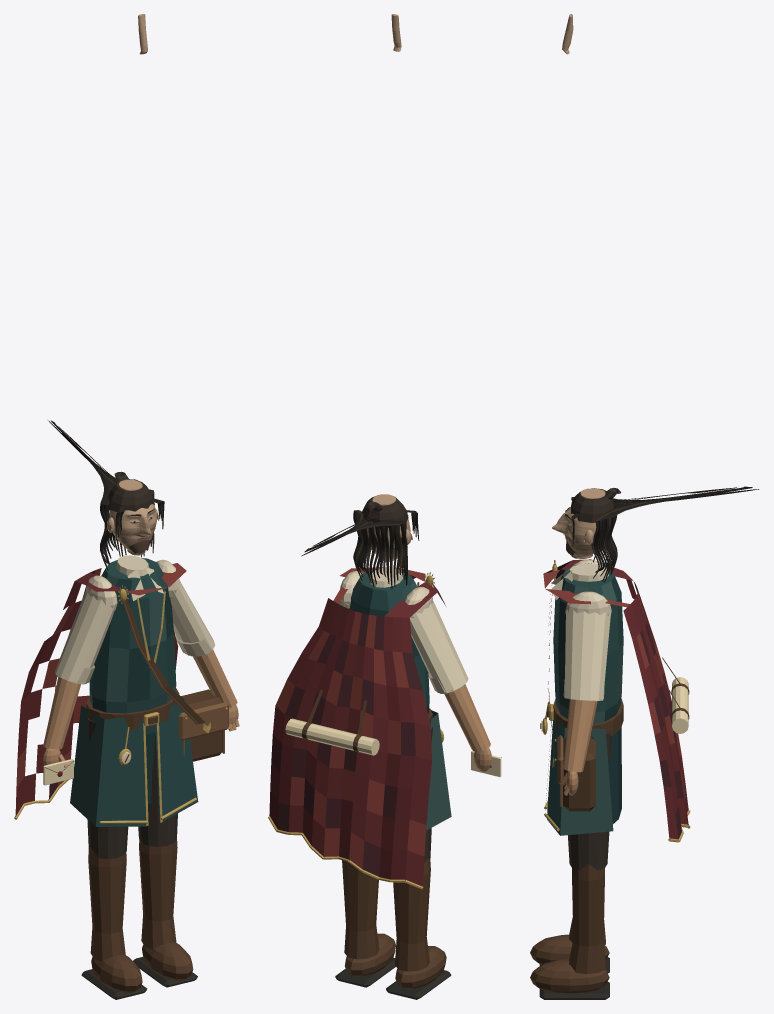
The model's file is courier.glb.
3 renders of one model, left to right at view 1: azimuth 30°, elevation 25°; view 2: azimuth 150°, elevation 25°; view 3: azimuth 270°, elevation 25°, orthographic.
Parts seen in each view (by area): view 1: Waistcoat, Split_coat_R, Cloak_folds, Boot_shaft_R, Boot_shaft_L, Split_coat_L, Linen_sleeve_R, Forearm_R, Face, Trouser_thigh_L, Linen_sleeve_L, Boot_toe_R (+13 smaller); view 2: Cloak_folds, Boot_shaft_R, Boot_shaft_L, Linen_sleeve_R, Waistcoat, Split_coat_R, Map_roll, Forearm_R, Boot_toe_L, Boot_toe_R, Hair_target_top, Boot_sole_R (+1 smaller); view 3: Cloak_folds, Waistcoat, Linen_sleeve_L, Boot_shaft_L, Split_coat_L, Boot_toe_L, Forearm_L, Trouser_thigh_L, Messenger_satchel, Face, Back_coat, Boot_toe_R (+6 smaller).
Boxes of the visible parts, x1=… form: Waistcoat: x1=89, y1=558, x2=176, y2=734; Split_coat_R: x1=70, y1=705, x2=146, y2=826; Cloak_folds: x1=15, y1=563, x2=186, y2=816; Boot_shaft_R: x1=88, y1=847, x2=126, y2=961; Boot_shaft_L: x1=139, y1=837, x2=177, y2=948; Split_coat_L: x1=155, y1=695, x2=198, y2=822; Linen_sleeve_R: x1=54, y1=590, x2=115, y2=684; Forearm_R: x1=43, y1=676, x2=80, y2=749; Face: x1=109, y1=479, x2=156, y2=555; Trouser_thigh_L: x1=138, y1=734, x2=177, y2=846; Linen_sleeve_L: x1=170, y1=580, x2=214, y2=656; Boot_toe_R: x1=91, y1=954, x2=142, y2=992; Cloak_folds: x1=269, y1=566, x2=445, y2=886; Boot_shaft_R: x1=393, y1=857, x2=430, y2=971; Boot_shaft_L: x1=342, y1=860, x2=379, y2=959; Linen_sleeve_R: x1=410, y1=599, x2=468, y2=693; Waistcoat: x1=349, y1=569, x2=429, y2=713; Split_coat_R: x1=426, y1=710, x2=451, y2=830; Map_roll: x1=285, y1=718, x2=379, y2=755; Forearm_R: x1=444, y1=684, x2=490, y2=751; Boot_toe_L: x1=345, y1=933, x2=395, y2=976; Boot_toe_R: x1=395, y1=946, x2=446, y2=988; Hair_target_top: x1=362, y1=495, x2=408, y2=527; Boot_sole_R: x1=386, y1=970, x2=451, y2=999; Cloak_folds: x1=543, y1=559, x2=688, y2=839; Waistcoat: x1=553, y1=563, x2=623, y2=723; Linen_sleeve_L: x1=565, y1=610, x2=610, y2=700; Boot_shaft_L: x1=569, y1=864, x2=605, y2=973; Split_coat_L: x1=547, y1=710, x2=613, y2=835; Boot_toe_L: x1=530, y1=959, x2=609, y2=993; Forearm_L: x1=563, y1=699, x2=597, y2=772; Trouser_thigh_L: x1=568, y1=732, x2=611, y2=870; Messenger_satchel: x1=563, y1=737, x2=595, y2=811; Face: x1=552, y1=488, x2=605, y2=558; Back_coat: x1=607, y1=727, x2=621, y2=823; Boot_toe_R: x1=530, y1=934, x2=609, y2=964.
Bounding box in the file's own units: 0.7395 × 3.42 × 0.7389.
